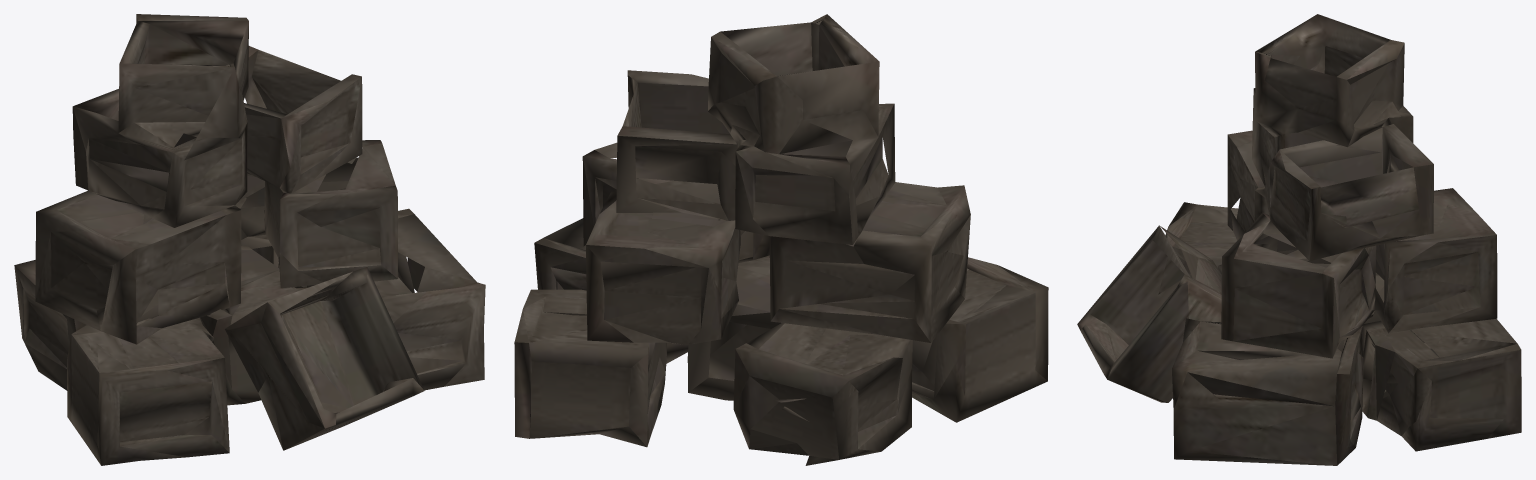
The model's file is crate_pile.glb.
The picture shows the model from 3 angles, left to right: view 1: azimuth 30°, elevation 25°; view 2: azimuth 150°, elevation 25°; view 3: azimuth 270°, elevation 25°; orthographic projection. The views are drawn at different scales.
Visible parts, largest first — view 1: mesh_node; view 2: mesh_node; view 3: mesh_node.
Part boxes in pixels (x1,y1,x2,y2): mesh_node: [14, 14, 485, 465]; mesh_node: [514, 14, 1048, 465]; mesh_node: [1077, 14, 1521, 465].
Bounding box in the file's own units: 1.84 × 1.48 × 1.9.
Materials: 1 (1 with a texture image).
